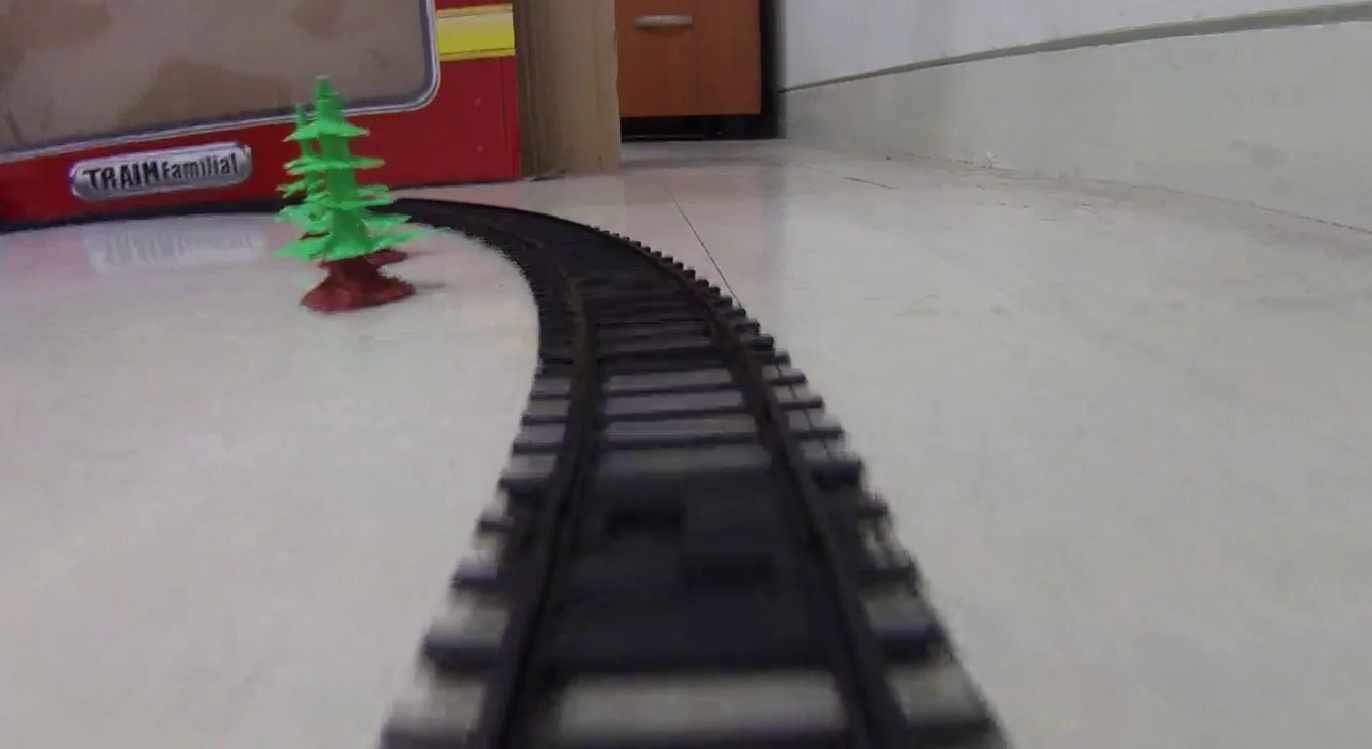tree: (292, 77, 413, 314)
